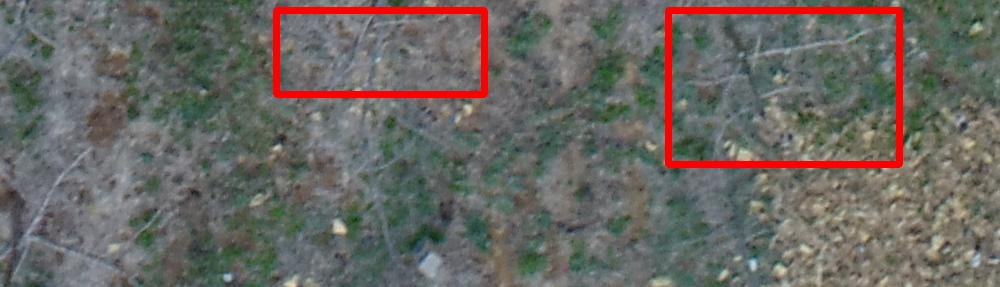apple: (668, 10, 899, 164), (276, 10, 484, 94)
